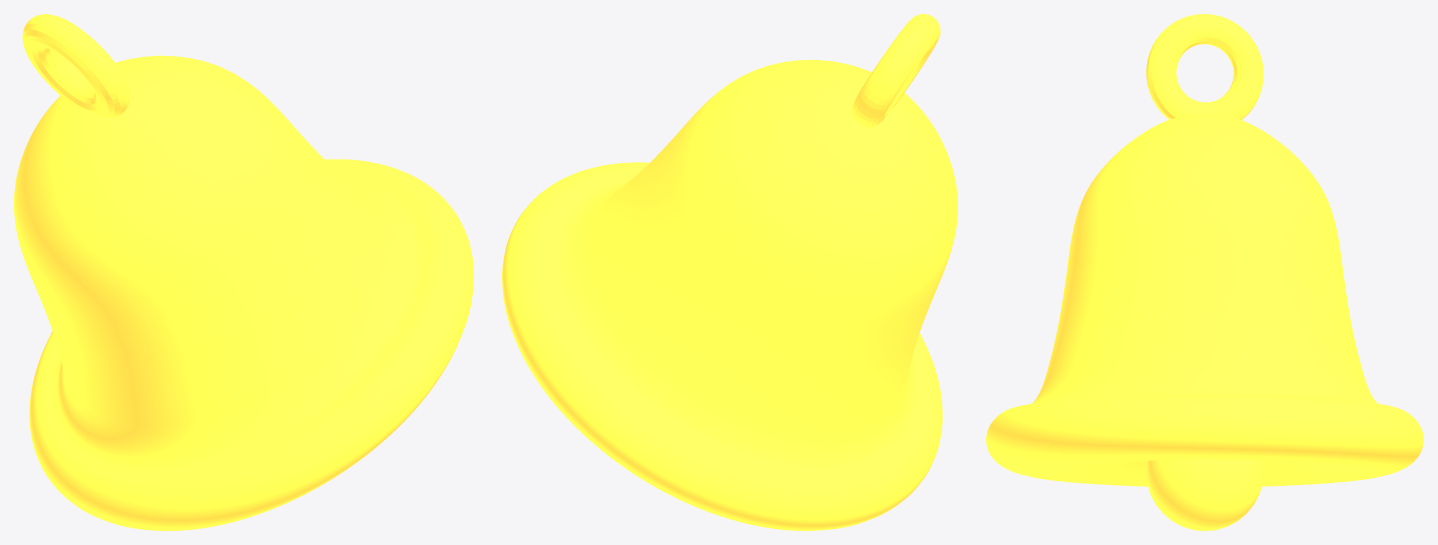
3 views of the same model, side by side, from view 1: azimuth 30°, elevation 25°; view 2: azimuth 150°, elevation 25°; view 3: azimuth 270°, elevation 25° (orthographic). The views are drawn at different scales.
Parts seen in each view (by area): view 1: 柱体.004, 环体; view 2: 柱体.004, 环体; view 3: 柱体.004, 环体, 球体.001.
Part boxes in pixels (box(x1,y1,x2,y2)): 柱体.004: box(14, 55, 473, 530); 环体: box(22, 14, 129, 118); 柱体.004: box(502, 60, 957, 530); 环体: box(852, 14, 940, 127); 柱体.004: box(986, 113, 1423, 486); 环体: box(1146, 14, 1263, 119); 球体.001: box(1146, 459, 1263, 530).
Bounding box in the file's own units: 79.15 × 93.47 × 82.52.
